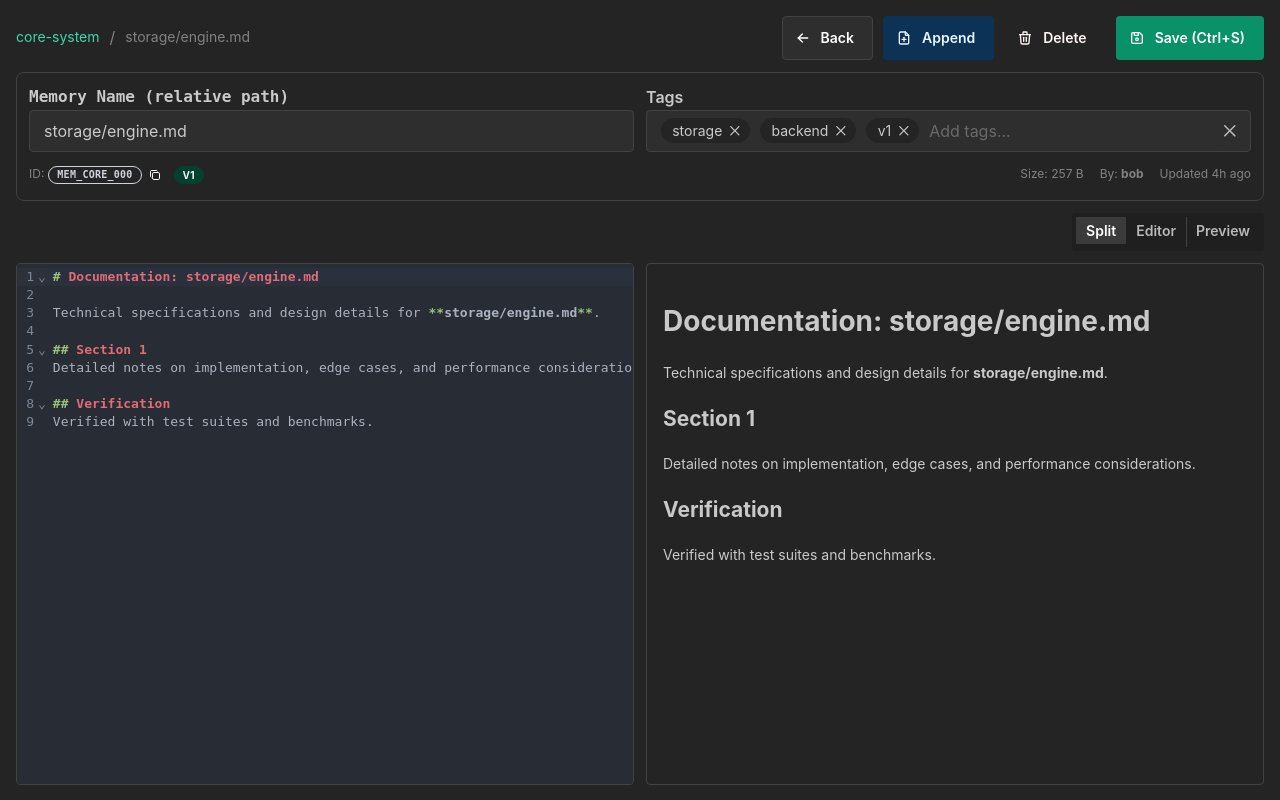
Test case: Memories Feature › MemoryEditorView & Conflict Flow End-to-End › saves edits to an existing memory
Expected: the field showing "storage/engine.md" is shown, [29,110,634,152]
Click the button "Save (Ctrl+S)" at (1190, 38), box [1116,16,1264,60]
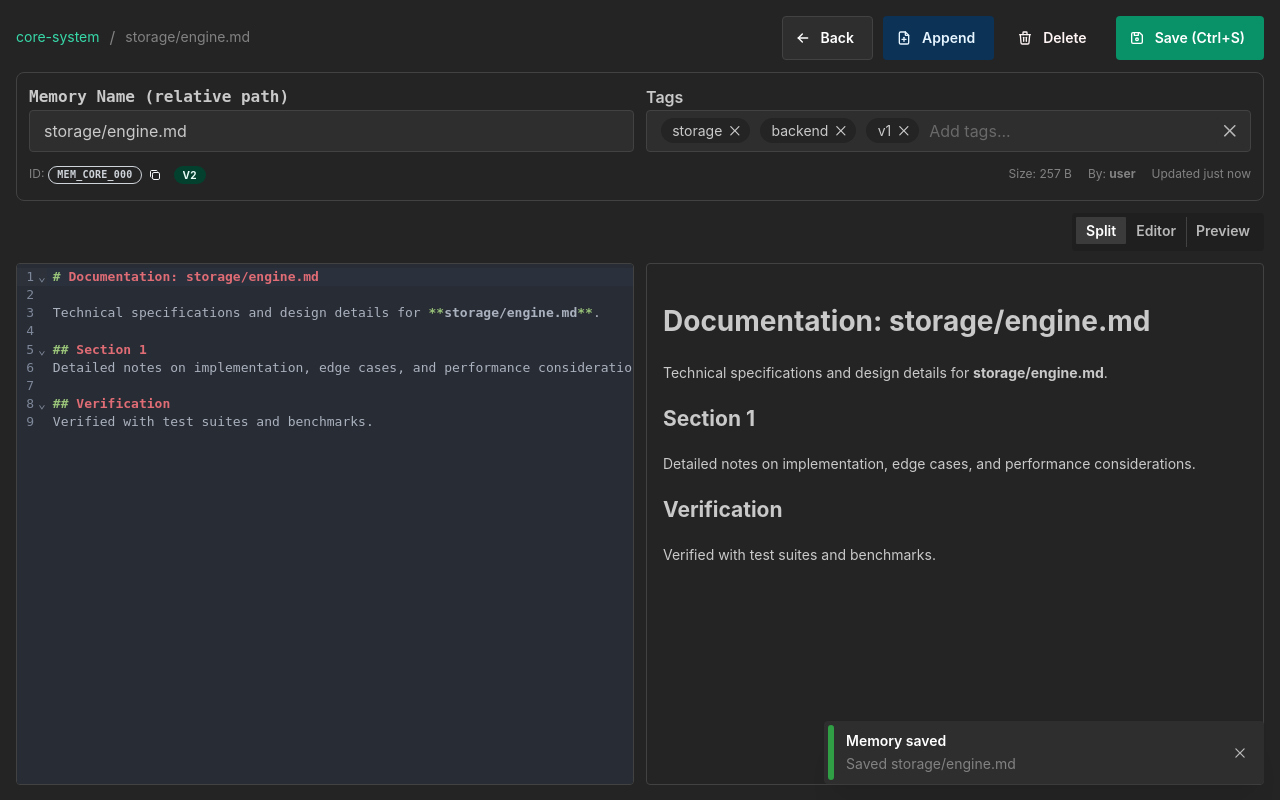
Result: the text "Memory saved" is shown at [846,732,946,749]
